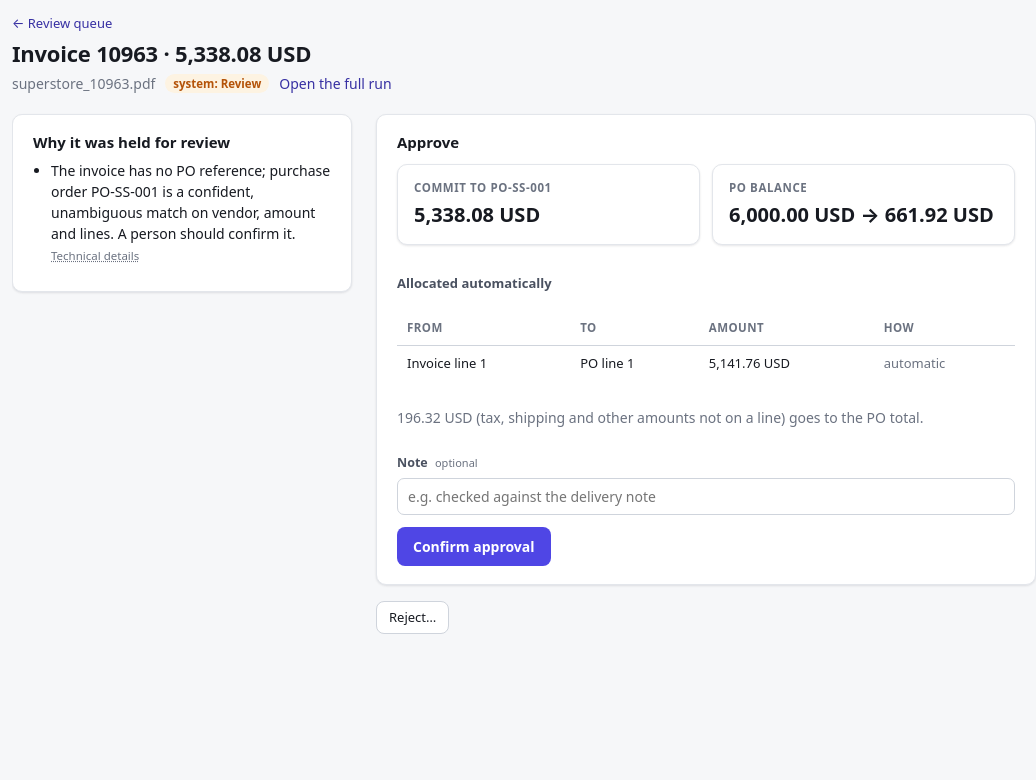
Test: approving an item › a stale preview is replaced and explained
This screenshot has width=1036, height=780.
What coordinates should you click on to do the following:
click the button "Confirm approval"
I would click on:
 (474, 546)
Its box is left=397, top=527, right=551, bottom=566.
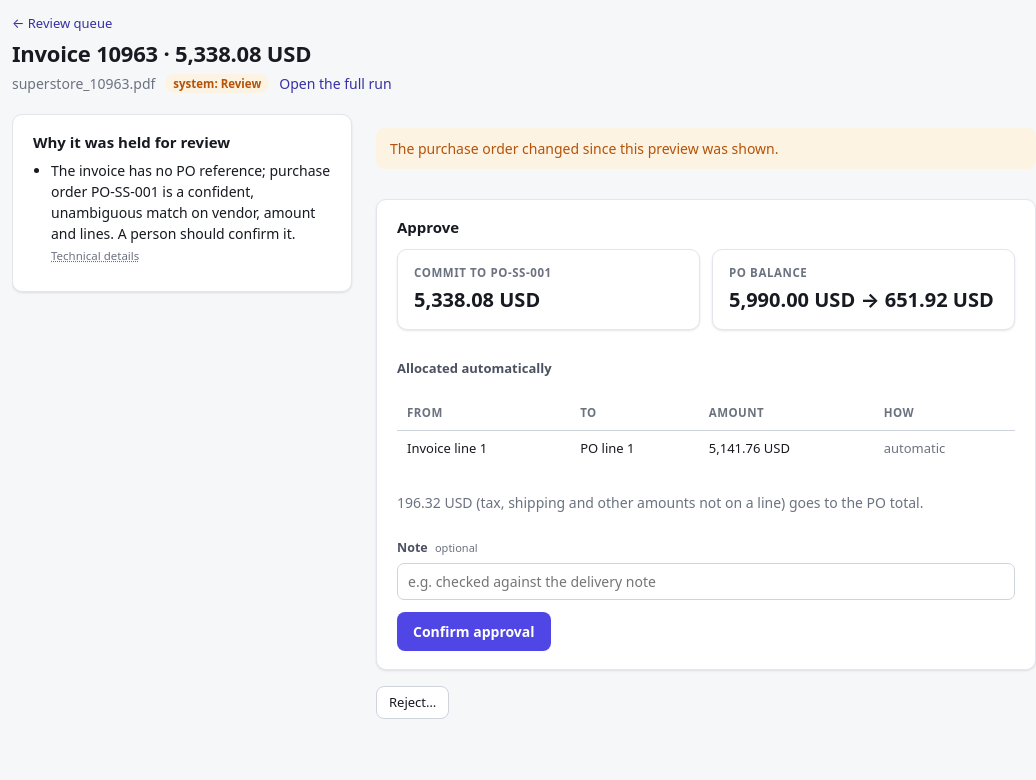
Check: the message shows "changed since this preview", box left=390, top=139, right=778, bottom=158
Check: the text "5,990.00 USD → 651.92 USD" is shown, box left=729, top=285, right=998, bottom=315
